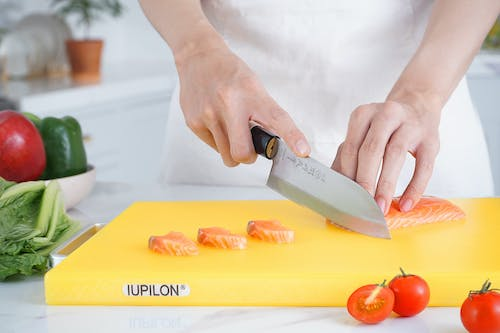knife: (248, 119, 393, 241)
